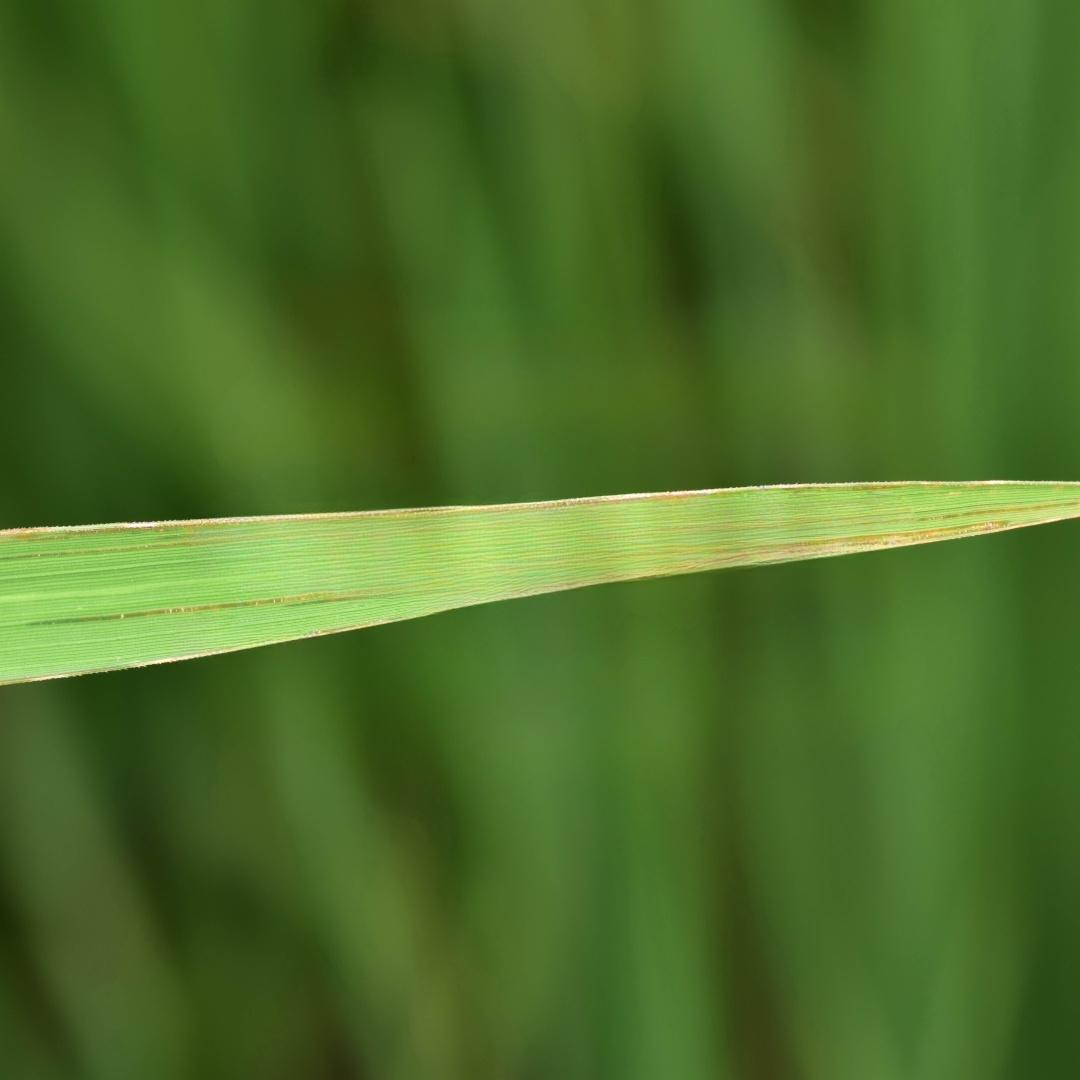BLS: (0, 483, 823, 536), (554, 520, 1055, 589), (2, 617, 409, 685), (30, 591, 368, 627), (3, 541, 205, 559), (933, 500, 1079, 518), (842, 479, 1079, 489)
